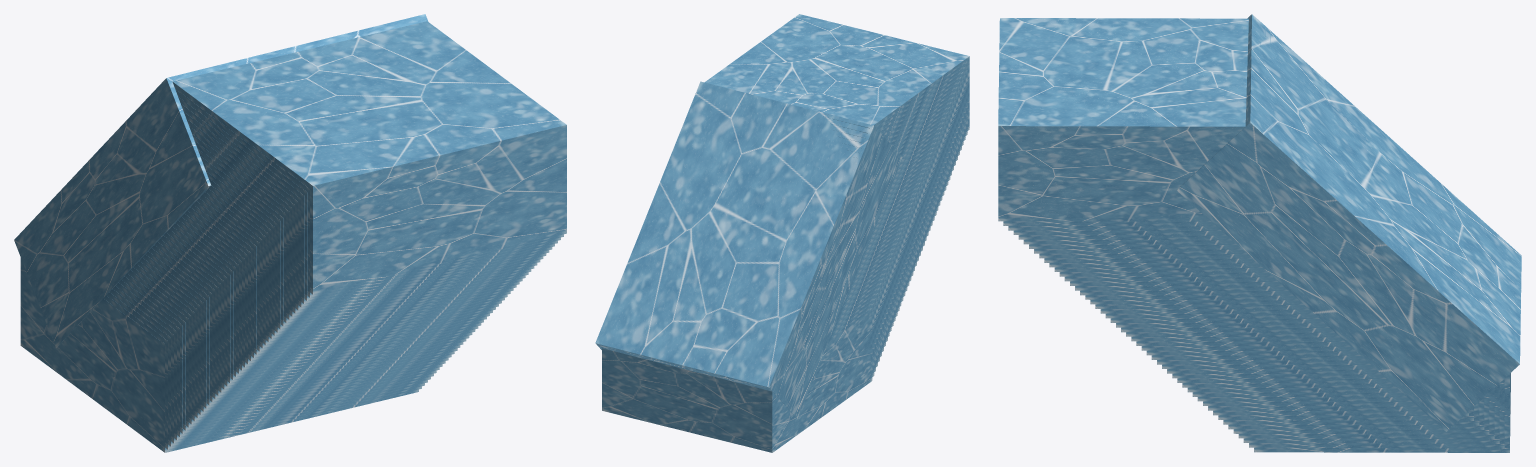
The model's file is Slope.gltf.
3 views of the same model, side by side, from view 1: azimuth 30°, elevation 25°; view 2: azimuth 150°, elevation 25°; view 3: azimuth 270°, elevation 25° (orthographic). The views are drawn at different scales.
Visible parts, largest first — view 1: 立方体.001, COL2, 立方体.051, 立方体.003, 立方体.004, 立方体.002, 立方体.005, 立方体.006, 立方体.007, 立方体.008, 立方体.009, 立方体.010 (+40 smaller); view 2: COL2, 立方体.001, 立方体.051, 立方体.002, 立方体.003, 立方体.004, 立方体.005, 立方体.006, 立方体.012, 立方体.007, 立方体.011, 立方体.008 (+25 smaller); view 3: COL2, 立方体.001, 立方体.051, 立方体.050, 立方体.049, 立方体.047, 立方体.048, 立方体.046, 立方体.045, 立方体.044, 立方体.002, 立方体.004 (+40 smaller).
Part boxes in pixels (<box>): 立方体.001: <box>172,21,566,294</box>; COL2: <box>14,14,428,347</box>; 立方体.051: <box>20,258,418,452</box>; 立方体.003: <box>178,96,560,300</box>; 立方体.004: <box>181,104,557,303</box>; 立方体.002: <box>175,89,563,297</box>; 立方体.005: <box>183,111,554,307</box>; 立方体.006: <box>186,119,552,310</box>; 立方体.007: <box>189,126,549,313</box>; 立方体.008: <box>192,134,546,316</box>; 立方体.009: <box>194,141,543,319</box>; 立方体.010: <box>197,148,540,322</box>; COL2: <box>595,81,902,418</box>; 立方体.001: <box>705,14,969,130</box>; 立方体.051: <box>602,308,872,452</box>; 立方体.002: <box>839,61,967,135</box>; 立方体.003: <box>845,66,965,140</box>; 立方体.004: <box>850,71,963,145</box>; 立方体.005: <box>856,76,961,150</box>; 立方体.006: <box>884,81,959,155</box>; 立方体.012: <box>894,106,950,180</box>; 立方体.007: <box>886,86,957,160</box>; 立方体.011: <box>896,111,948,185</box>; 立方体.008: <box>888,91,955,165</box>; COL2: <box>1176,14,1521,431</box>; 立方体.001: <box>998,18,1255,221</box>; 立方体.051: <box>1254,373,1510,452</box>; 立方体.050: <box>1249,379,1504,448</box>; 立方体.049: <box>1243,383,1499,443</box>; 立方体.047: <box>1233,393,1489,434</box>; 立方体.048: <box>1238,388,1494,438</box>; 立方体.046: <box>1228,397,1484,429</box>; 立方体.045: <box>1223,402,1479,425</box>; 立方体.044: <box>1218,407,1473,420</box>; 立方体.002: <box>1003,23,1260,226</box>; 立方体.004: <box>1013,33,1270,235</box>.
Bounding box in the file's own units: 10.27 × 14.29 × 20.46.
53 materials, 53 textured.
